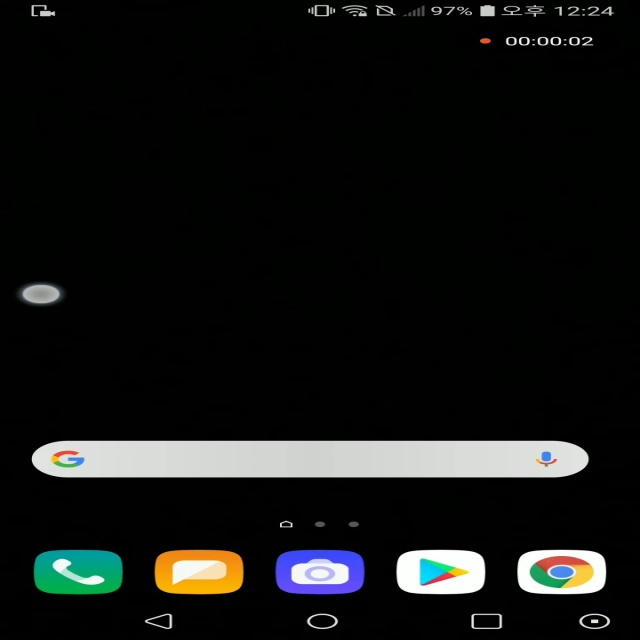Cursor: (20, 283, 64, 305)
